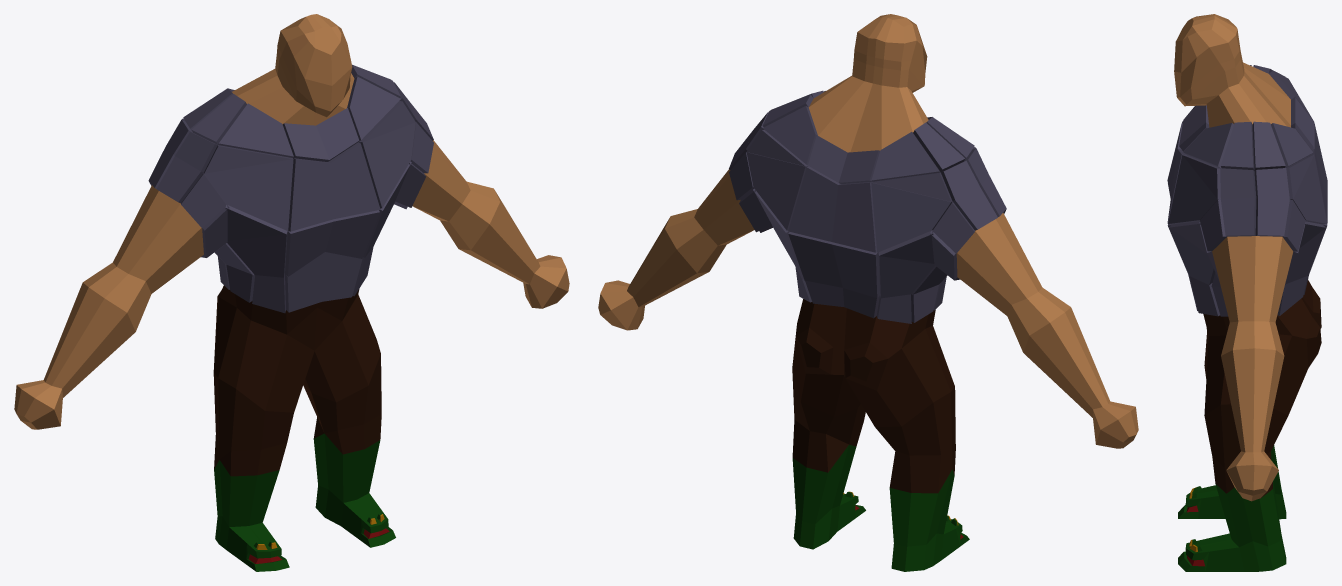
Rendered from funnyfrogman.fbx.
3 views of the same model, side by side, from view 1: azimuth 30°, elevation 25°; view 2: azimuth 150°, elevation 25°; view 3: azimuth 270°, elevation 25° (orthographic). The views are drawn at different scales.
Visible parts, largest first — view 1: Box003; view 2: Box003; view 3: Box003.
Part boxes in pixels (box(x1,y1,x2,y2)): Box003: box(14, 14, 569, 571); Box003: box(598, 14, 1138, 571); Box003: box(1167, 14, 1327, 571).
Bounding box in the file's own units: 78.71 × 20.08 × 72.28.
